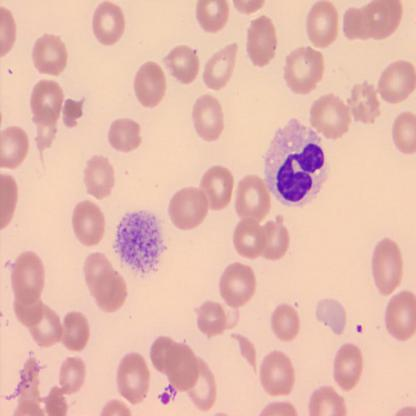Segmented neutrophil: (263, 116, 330, 209)
